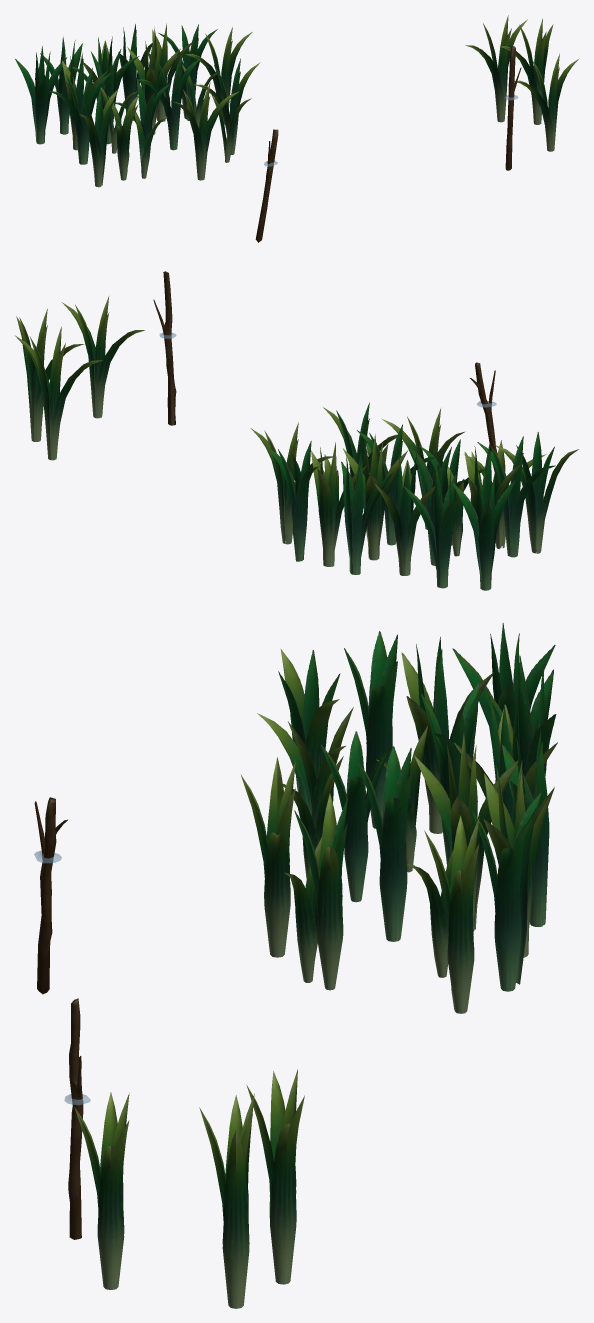
The model's file is water-plants.glb.
3 renders of one model, top to bottom at view 1: azimuth 30°, elevation 25°; view 2: azimuth 150°, elevation 25°; view 3: azimuth 270°, elevation 25°, orthographic. The views are drawn at different scales.
Size of the model in its own units: 95.85 by 26.75 by 46.41.
Materials: 3 (2 with a texture image).
